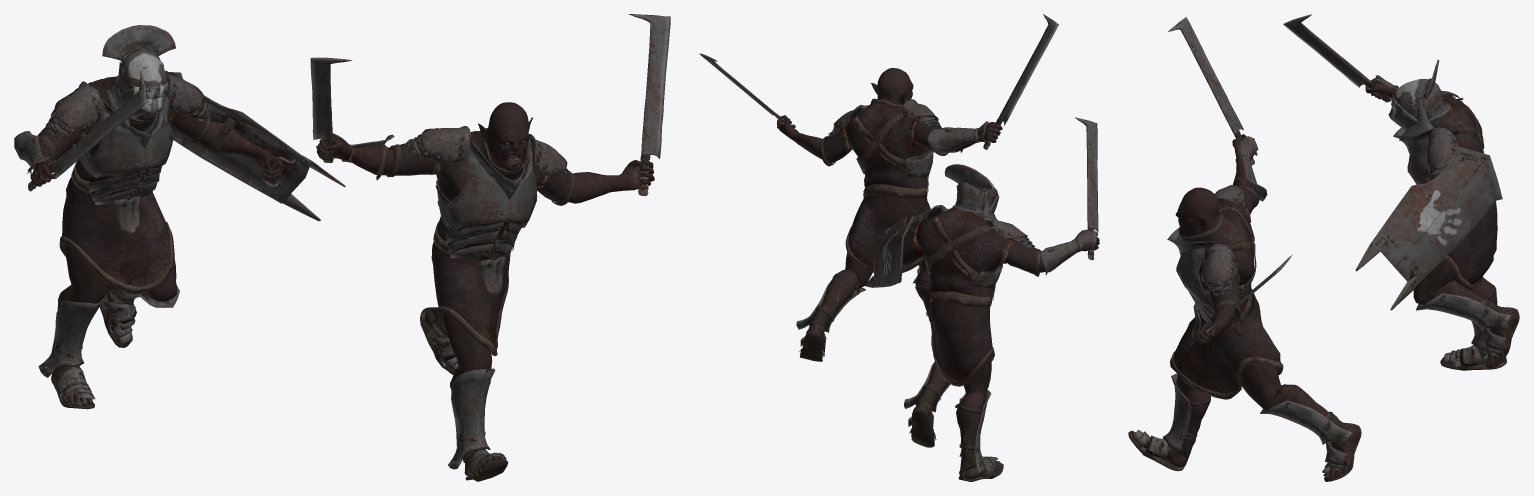
The model's file is urukStatue.glb.
3 renders of one model, left to right at view 1: azimuth 30°, elevation 25°; view 2: azimuth 150°, elevation 25°; view 3: azimuth 270°, elevation 25°, orthographic. The views are drawn at different scales.
Parts seen in each view (by area): view 1: Object_5, Object_3, Object_4, Object_6; view 2: Object_5, Object_3, Object_6, Object_4; view 3: Object_5, Object_4, Object_3, Object_6.
Boxes of the visible parts, bbox=[...] form: Object_5: bbox=[14, 25, 571, 481]; Object_3: bbox=[30, 98, 654, 477]; Object_4: bbox=[28, 14, 670, 221]; Object_6: bbox=[27, 81, 574, 355]; Object_5: bbox=[796, 99, 1096, 481]; Object_3: bbox=[777, 68, 1099, 479]; Object_6: bbox=[820, 98, 1093, 386]; Object_4: bbox=[699, 14, 1098, 287]; Object_5: bbox=[1128, 59, 1519, 481]; Object_4: bbox=[1168, 14, 1502, 344]; Object_3: bbox=[1131, 78, 1516, 479]; Object_6: bbox=[1170, 77, 1484, 399].
Size of the model in its own units: 3.08 by 2.32 by 2.13.
Materials: 4 (4 with a texture image).
